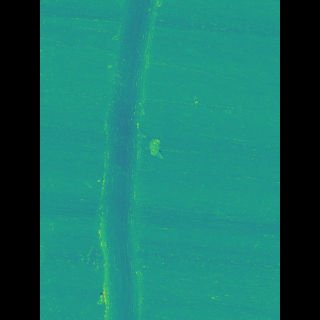Loch: (112, 0, 163, 320), (150, 134, 163, 164)
